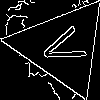V: (37, 21, 97, 71)
